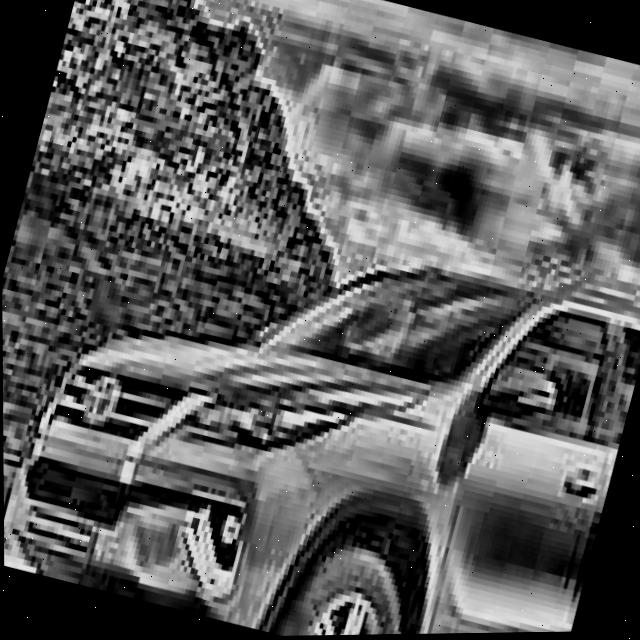light_vehicle: (1, 157, 640, 640)
